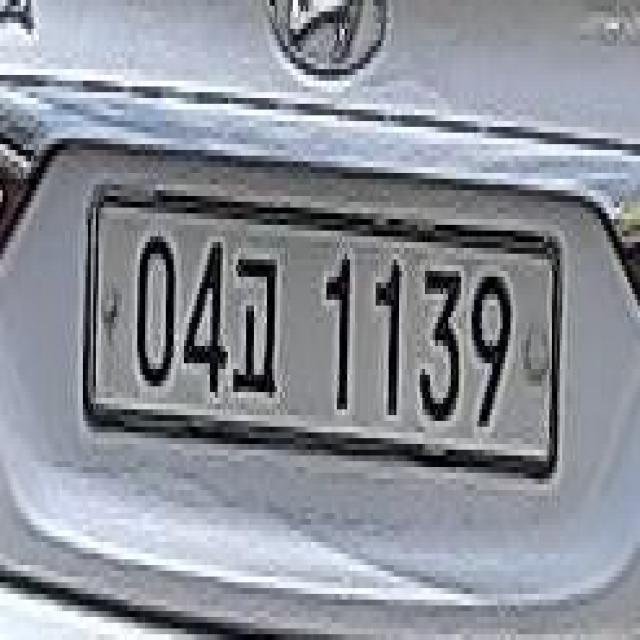illegal_plate: (82, 176, 565, 508)
